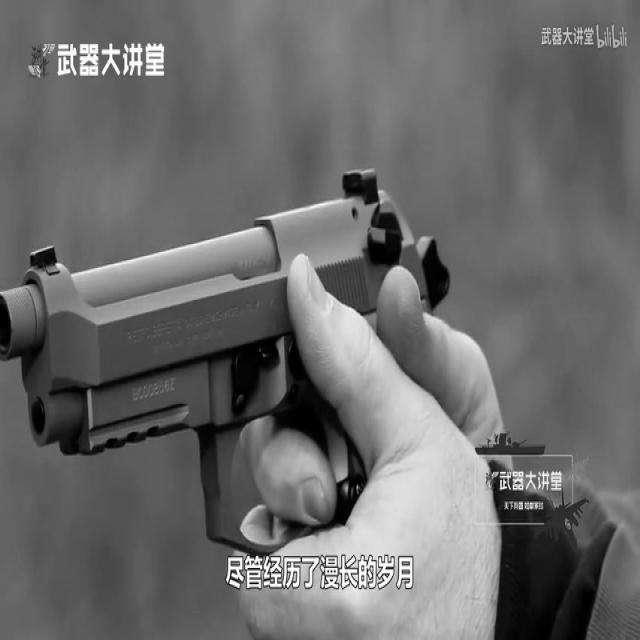Hand-Gun: (0, 195, 481, 592)
